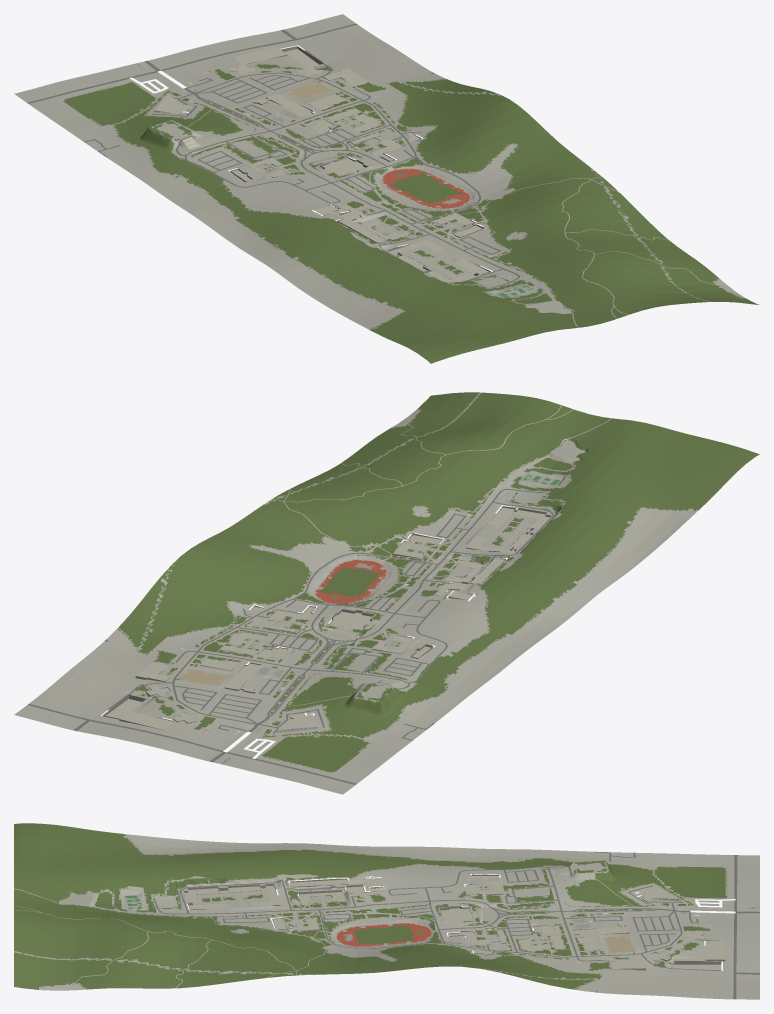
3 renders of one model, top to bottom at view 1: azimuth 30°, elevation 25°; view 2: azimuth 150°, elevation 25°; view 3: azimuth 270°, elevation 25°, orthographic. The views are drawn at different scales.
Parts seen in each view (by area): view 1: mokwon-wood, mokwon-base, mokwon-paving, mokwon-asphalt, mokwon-garden, mokwon-grass, mokwon-wood-overlay, library__exteriorFoundationClosure, mokwon-track, mokwon-pitchTurf, mokwon-garden-overlay; view 2: mokwon-wood, mokwon-base, mokwon-paving, mokwon-asphalt, mokwon-garden, mokwon-grass, library__exteriorFoundationClosure, mokwon-wood-overlay, mokwon-track, mokwon-pitchTurf, mokwon-garden-overlay; view 3: mokwon-base, mokwon-wood, mokwon-paving, mokwon-asphalt, mokwon-garden, mokwon-grass, library__exteriorFoundationClosure, mokwon-wood-overlay, mokwon-track, mokwon-garden-overlay, mokwon-pitchTurf, mokwon-grass-overlay (+1 smaller).
Boxes of the visible parts, left/top/right/bottom form: mokwon-wood: left=114, top=64, right=758, bottom=363; mokwon-base: left=14, top=14, right=745, bottom=329; mokwon-paving: left=94, top=14, right=719, bottom=327; mokwon-asphalt: left=27, top=23, right=519, bottom=287; mokwon-garden: left=182, top=71, right=529, bottom=280; mokwon-grass: left=63, top=69, right=551, bottom=303; mokwon-wood-overlay: left=113, top=64, right=738, bottom=329; library__exteriorFoundationClosure: left=209, top=46, right=506, bottom=276; mokwon-track: left=382, top=169, right=469, bottom=208; mokwon-pitchTurf: left=393, top=174, right=457, bottom=202; mokwon-garden-overlay: left=186, top=70, right=524, bottom=281; mokwon-wood: left=117, top=392, right=759, bottom=738; mokwon-base: left=14, top=392, right=698, bottom=794; mokwon-paving: left=15, top=405, right=611, bottom=763; mokwon-asphalt: left=28, top=488, right=554, bottom=784; mokwon-garden: left=168, top=484, right=530, bottom=725; mokwon-grass: left=154, top=458, right=572, bottom=772; library__exteriorFoundationClosure: left=102, top=493, right=551, bottom=731; mokwon-wood-overlay: left=117, top=392, right=695, bottom=738; mokwon-track: left=315, top=560, right=386, bottom=603; mokwon-pitchTurf: left=322, top=568, right=378, bottom=596; mokwon-garden-overlay: left=167, top=488, right=534, bottom=723; mokwon-base: left=14, top=834, right=759, bottom=999; mokwon-wood: left=14, top=823, right=698, bottom=989; mokwon-paving: left=14, top=852, right=759, bottom=999; mokwon-asphalt: left=153, top=851, right=759, bottom=999; mokwon-garden: left=161, top=869, right=682, bottom=955; mokwon-grass: left=95, top=861, right=726, bottom=970; library__exteriorFoundationClosure: left=184, top=874, right=725, bottom=970; mokwon-wood-overlay: left=14, top=834, right=699, bottom=989; mokwon-track: left=336, top=923, right=431, bottom=946; mokwon-garden-overlay: left=161, top=868, right=681, bottom=953; mokwon-pitchTurf: left=356, top=926, right=410, bottom=943; mokwon-grass-overlay: left=95, top=861, right=759, bottom=970.
Size of the model in its own units: 596 by 72.32 by 1308.
25 materials, 17 textured.
